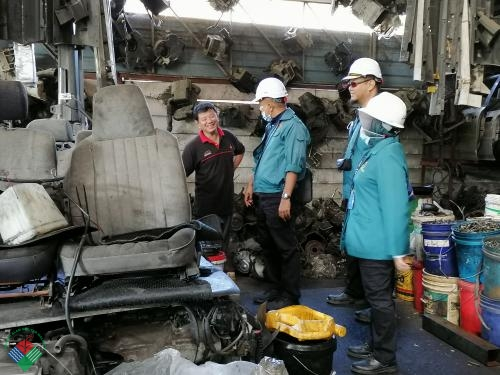No Safety Helmet: (190, 99, 223, 138)
Safety Helmet: (359, 90, 406, 149), (342, 52, 381, 101), (251, 76, 290, 123)
